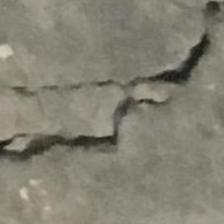Crack: (0, 1, 224, 165)
